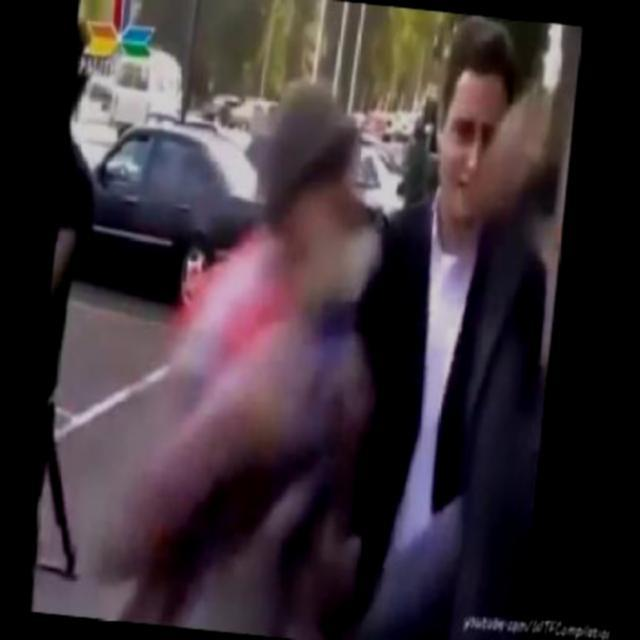fight: (194, 83, 571, 549)
